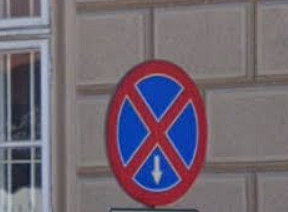oprirea_interzisa: (104, 59, 208, 207)
